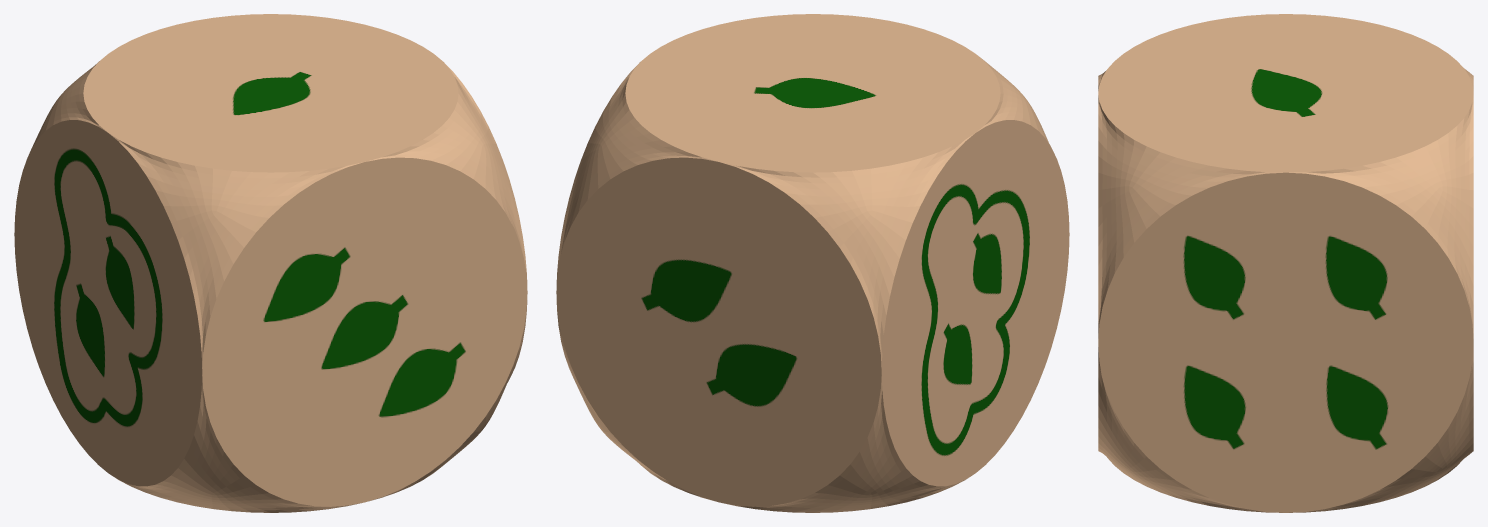
The model's file is dado_blanco.glb.
The picture shows the model from 3 angles, left to right: view 1: azimuth 30°, elevation 25°; view 2: azimuth 150°, elevation 25°; view 3: azimuth 270°, elevation 25°; orthographic projection.
Visible parts, largest first — view 1: Cubo; view 2: Cubo; view 3: Cubo.
Boxes of the visible parts, bbox=[...] form: Cubo: bbox=[14, 14, 527, 512]; Cubo: bbox=[556, 14, 1069, 512]; Cubo: bbox=[1098, 14, 1473, 512].
Bounding box in the file's own units: 0.016 × 0.016 × 0.016.
1 material, 1 textured.
